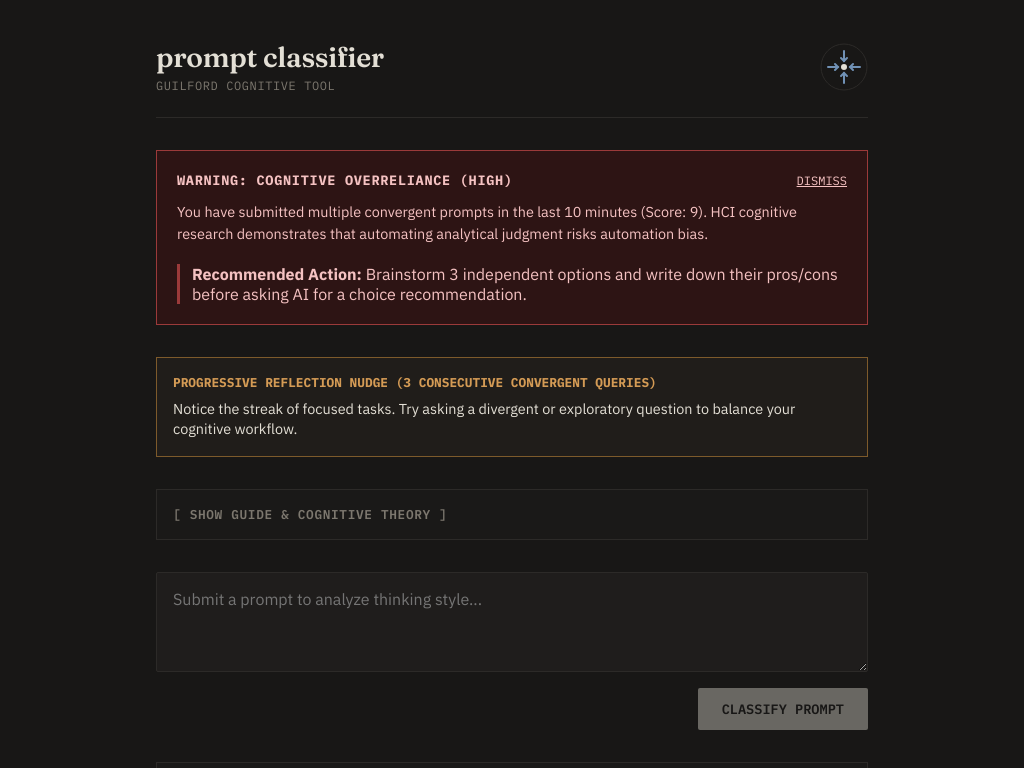
Test case: Prompt Classifier Frontend App › shows the overreliance banner when signal is high and allows dismissal
expect the text "WARNING: COGNITIVE OVERRELIANCE (HIGH)" is shown: met, box [177,171,513,189]
expect the text "risks automation bias" is shown: met, box [177,202,797,243]
Dismiss banner
Click the button named "Dismiss overreliance warning": click(822, 180) [797,172,847,188]
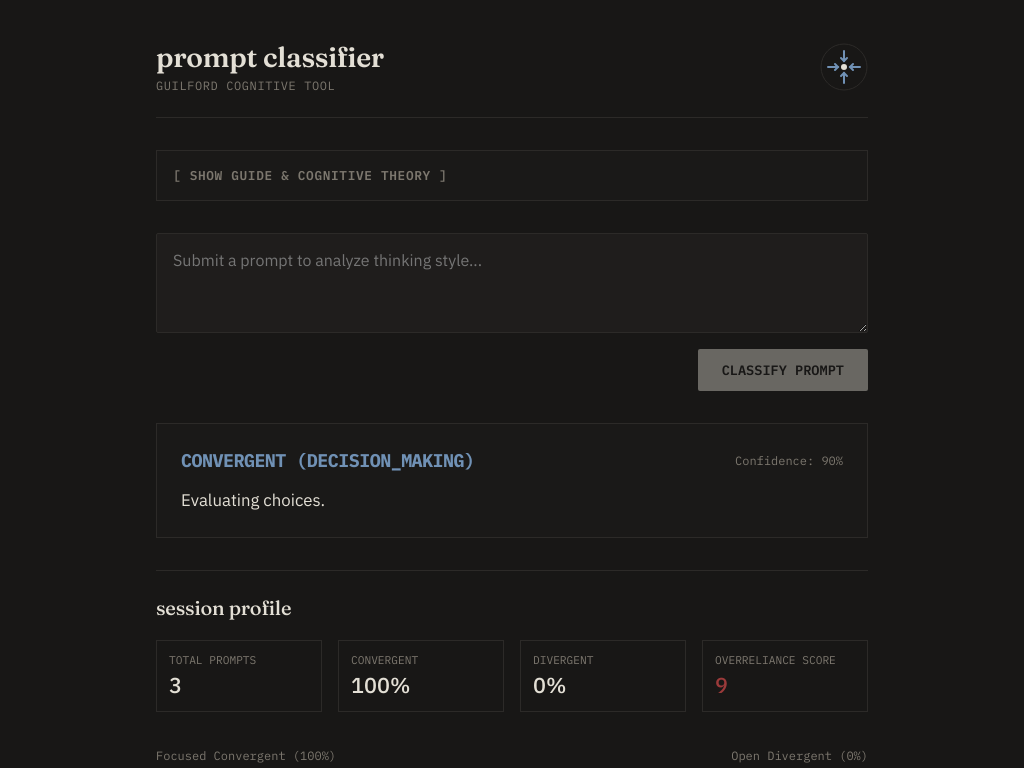
expect the text "WARNING: COGNITIVE OVERRELIANCE" is gone: met
